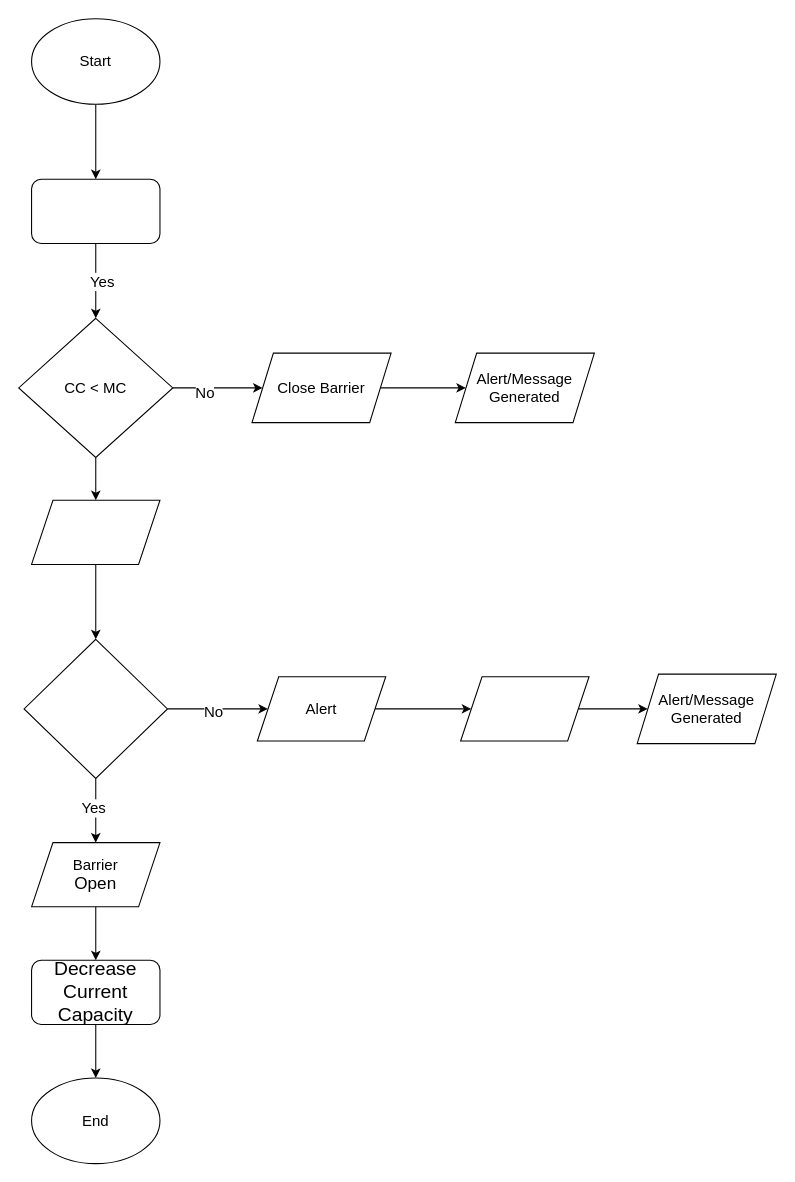
This 795x1182 diagram has some shape labels left out. Each missing label, with the centre of its shape:
Check current Capacity: point (95, 210)
Check if registered: point (95, 708)
Entry Close: point (524, 708)
Vehicle ID: point (95, 531)
